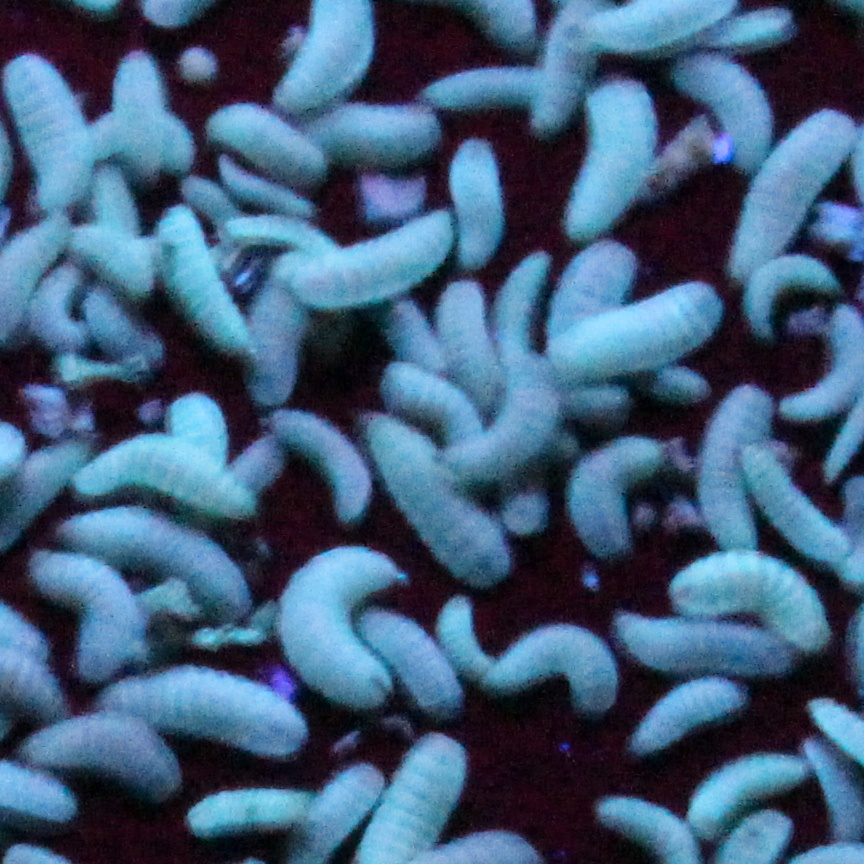larve: (357, 398, 517, 582), (271, 536, 402, 715), (731, 113, 853, 282), (97, 664, 311, 756), (67, 500, 246, 607), (566, 276, 724, 395), (664, 549, 837, 655), (73, 426, 255, 526), (337, 600, 477, 720), (544, 242, 635, 420), (566, 71, 657, 236), (377, 364, 504, 482), (13, 715, 184, 800), (444, 355, 558, 480), (260, 407, 378, 522), (735, 446, 853, 558), (164, 198, 247, 351), (300, 213, 453, 295), (38, 549, 133, 680), (566, 433, 667, 555), (673, 47, 771, 171), (613, 607, 795, 673), (198, 95, 327, 184), (698, 384, 767, 547), (491, 626, 620, 709), (244, 262, 315, 398), (482, 247, 558, 366), (282, 106, 442, 162), (164, 391, 235, 515), (742, 246, 842, 333), (693, 749, 797, 829), (635, 676, 747, 749), (437, 286, 500, 413), (435, 587, 507, 689), (84, 109, 195, 173), (64, 224, 166, 293), (86, 289, 169, 373), (115, 53, 168, 184), (188, 787, 326, 835), (417, 67, 562, 107), (460, 138, 498, 267), (373, 293, 437, 367), (224, 216, 338, 255), (706, 0, 798, 44)
